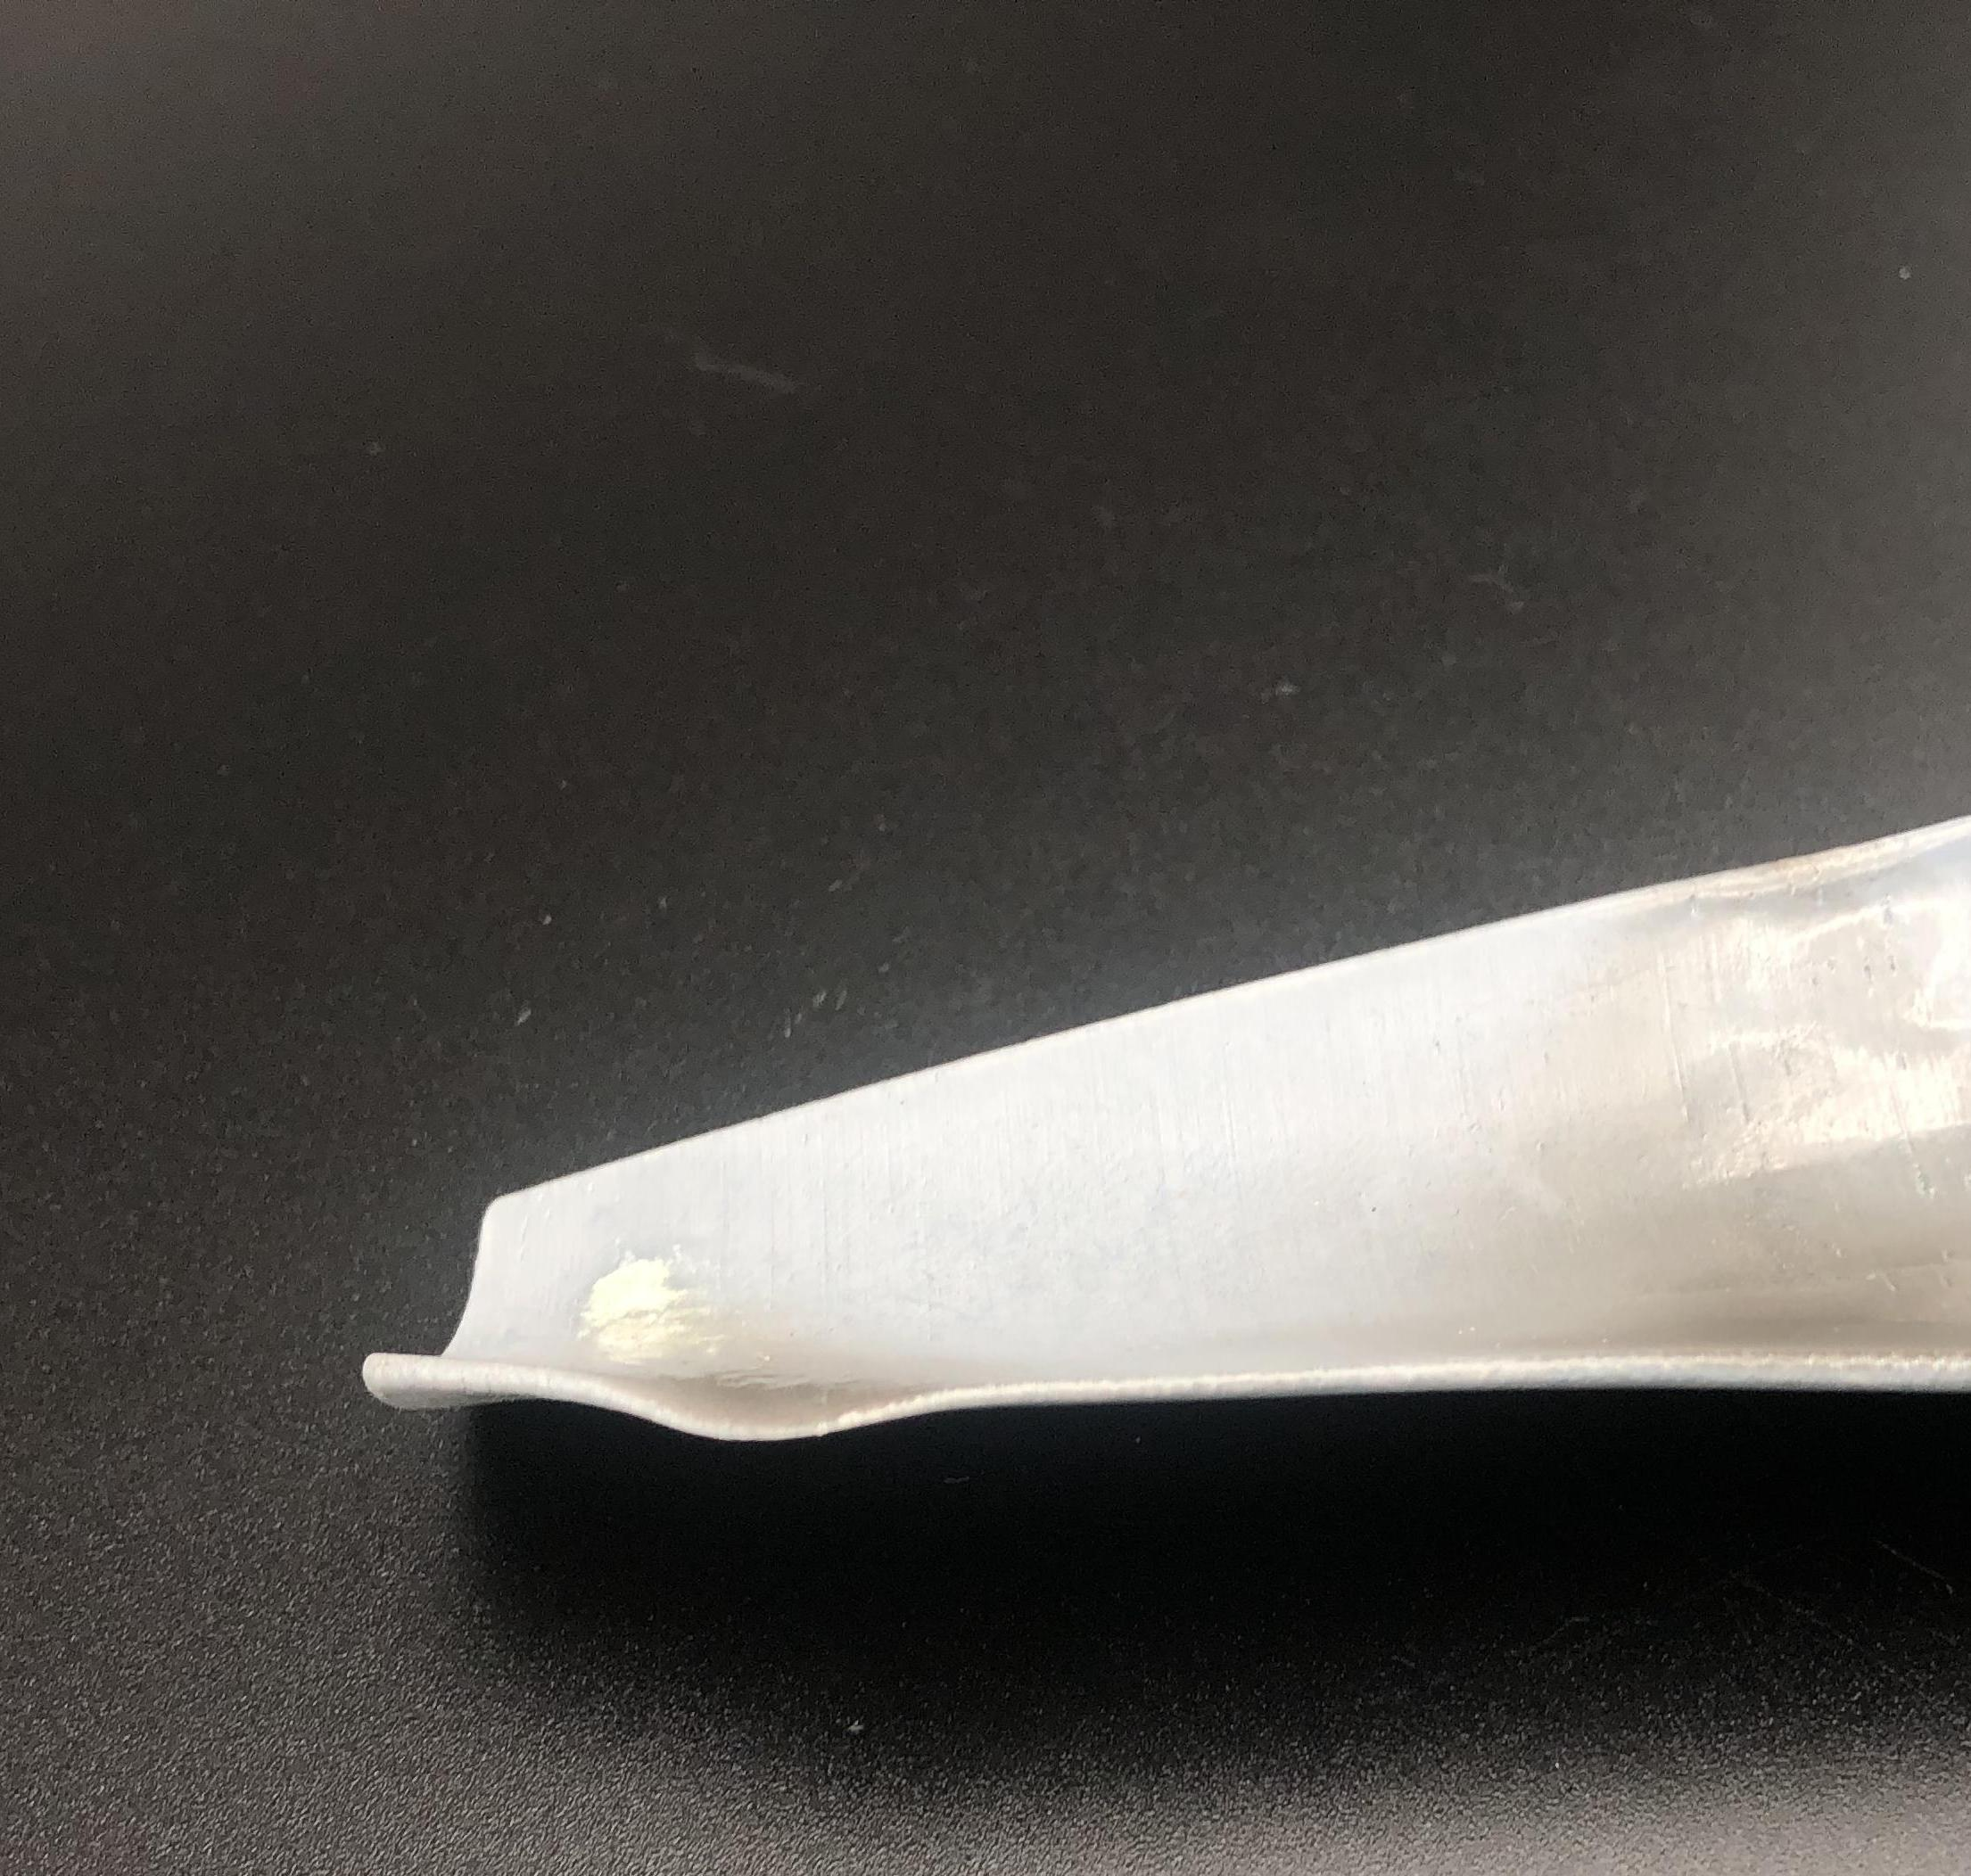ablation: (1586, 954, 1946, 1369), (586, 1257, 968, 1415)
